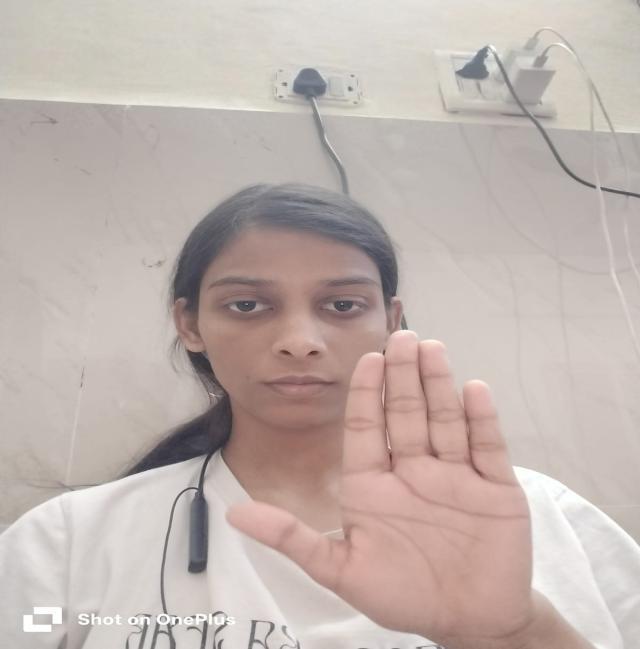Hello: (219, 324, 544, 644)
